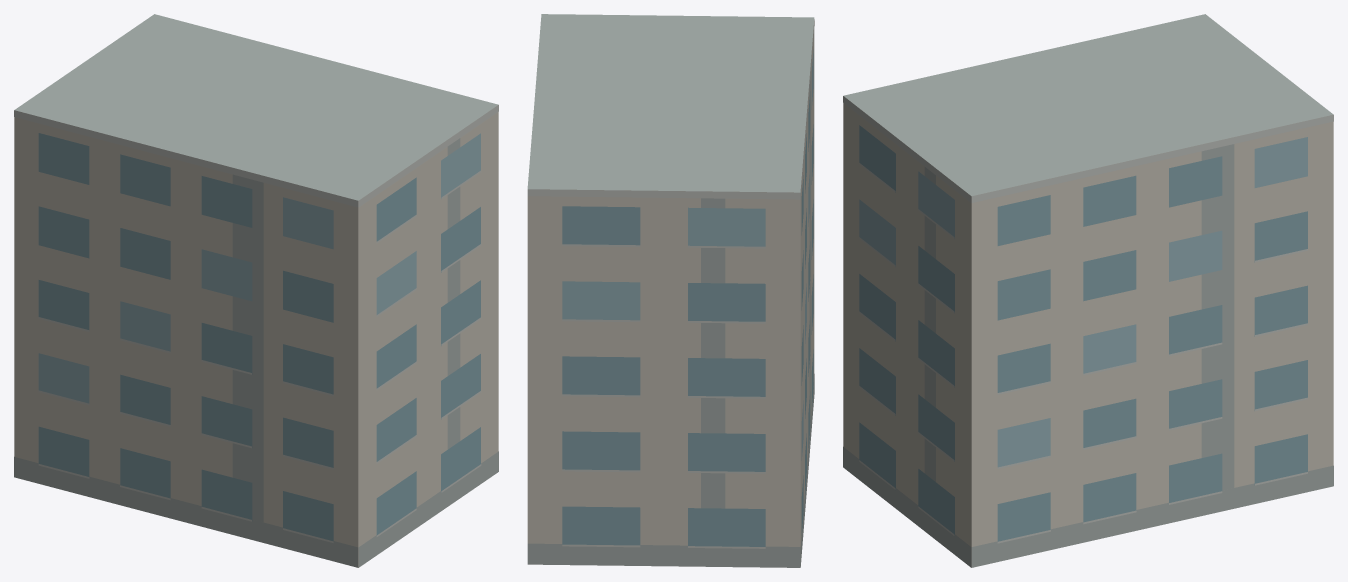
File: survey-upis-32863019.glb
The picture shows the model from 3 angles, left to right: view 1: azimuth 30°, elevation 25°; view 2: azimuth 150°, elevation 25°; view 3: azimuth 270°, elevation 25°; orthographic projection. The views are drawn at different scales.
Visible parts, largest first — view 1: survey-upis-32863019.tmp; view 2: survey-upis-32863019.tmp; view 3: survey-upis-32863019.tmp.
Boxes of the visible parts, x1,y1,x2,y2 form: survey-upis-32863019.tmp: [14, 14, 498, 567]; survey-upis-32863019.tmp: [527, 14, 814, 567]; survey-upis-32863019.tmp: [843, 14, 1333, 567].
Size of the model in its own units: 13.74 by 13.05 by 15.62.
